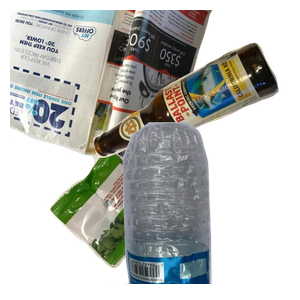glass: (91, 40, 300, 190)
paper: (10, 10, 215, 186)
plastic: (111, 120, 300, 300)
trash: (47, 146, 220, 300)
